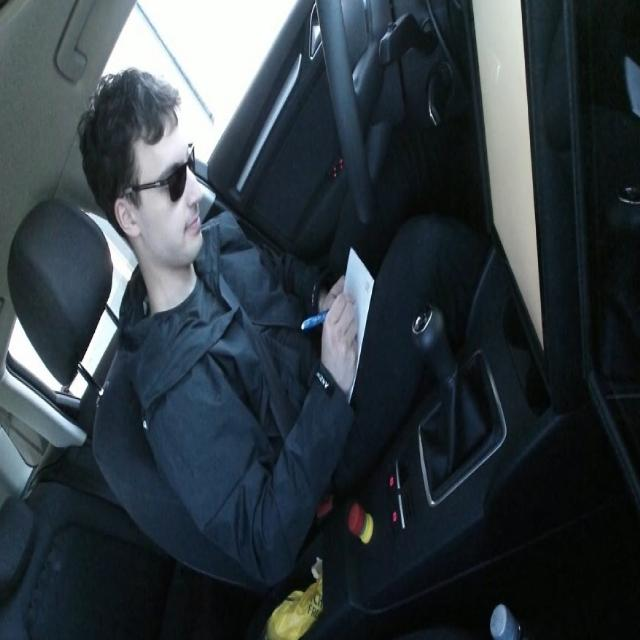pen: (299, 308, 329, 332)
